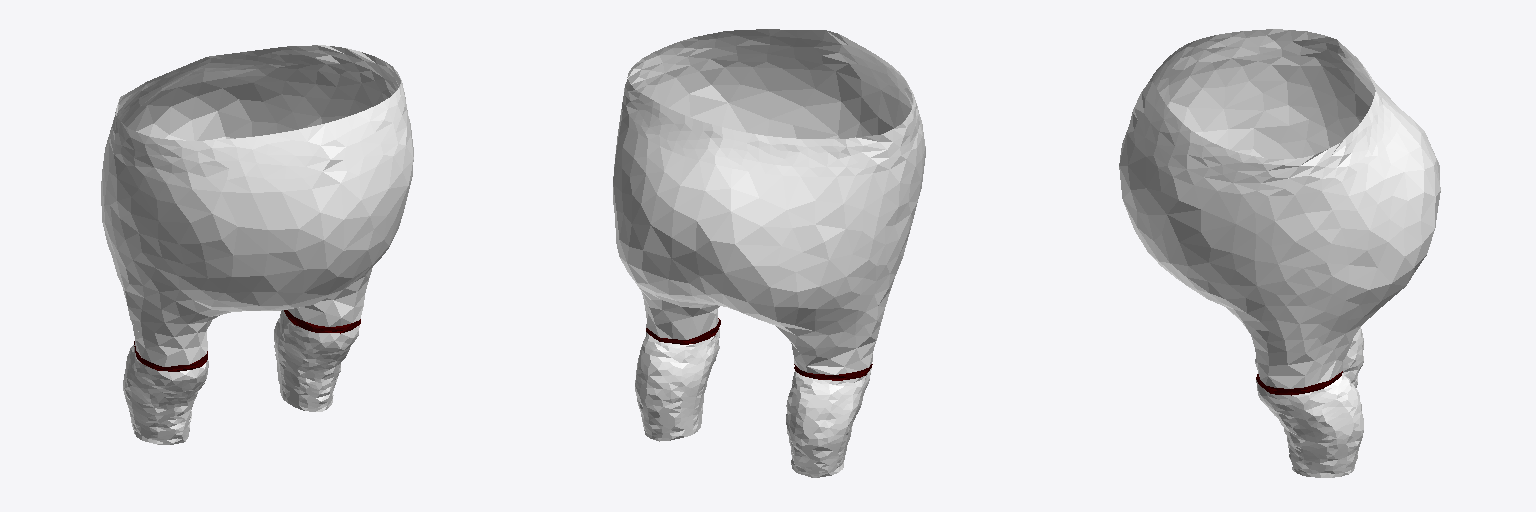
File: god_pants.obj
The picture shows the model from 3 angles: view 1: azimuth 30°, elevation 25°; view 2: azimuth 150°, elevation 25°; view 3: azimuth 270°, elevation 25°; orthographic projection.
Visible parts, largest first — view 1: object; view 2: object; view 3: object.
Part boxes in pixels (x1,y1,x2,y2): object: (101,45,413,444); object: (613,29,925,477); object: (1119,29,1440,477).
Bounding box in the file's own units: 0.281 × 0.3525 × 0.2892.